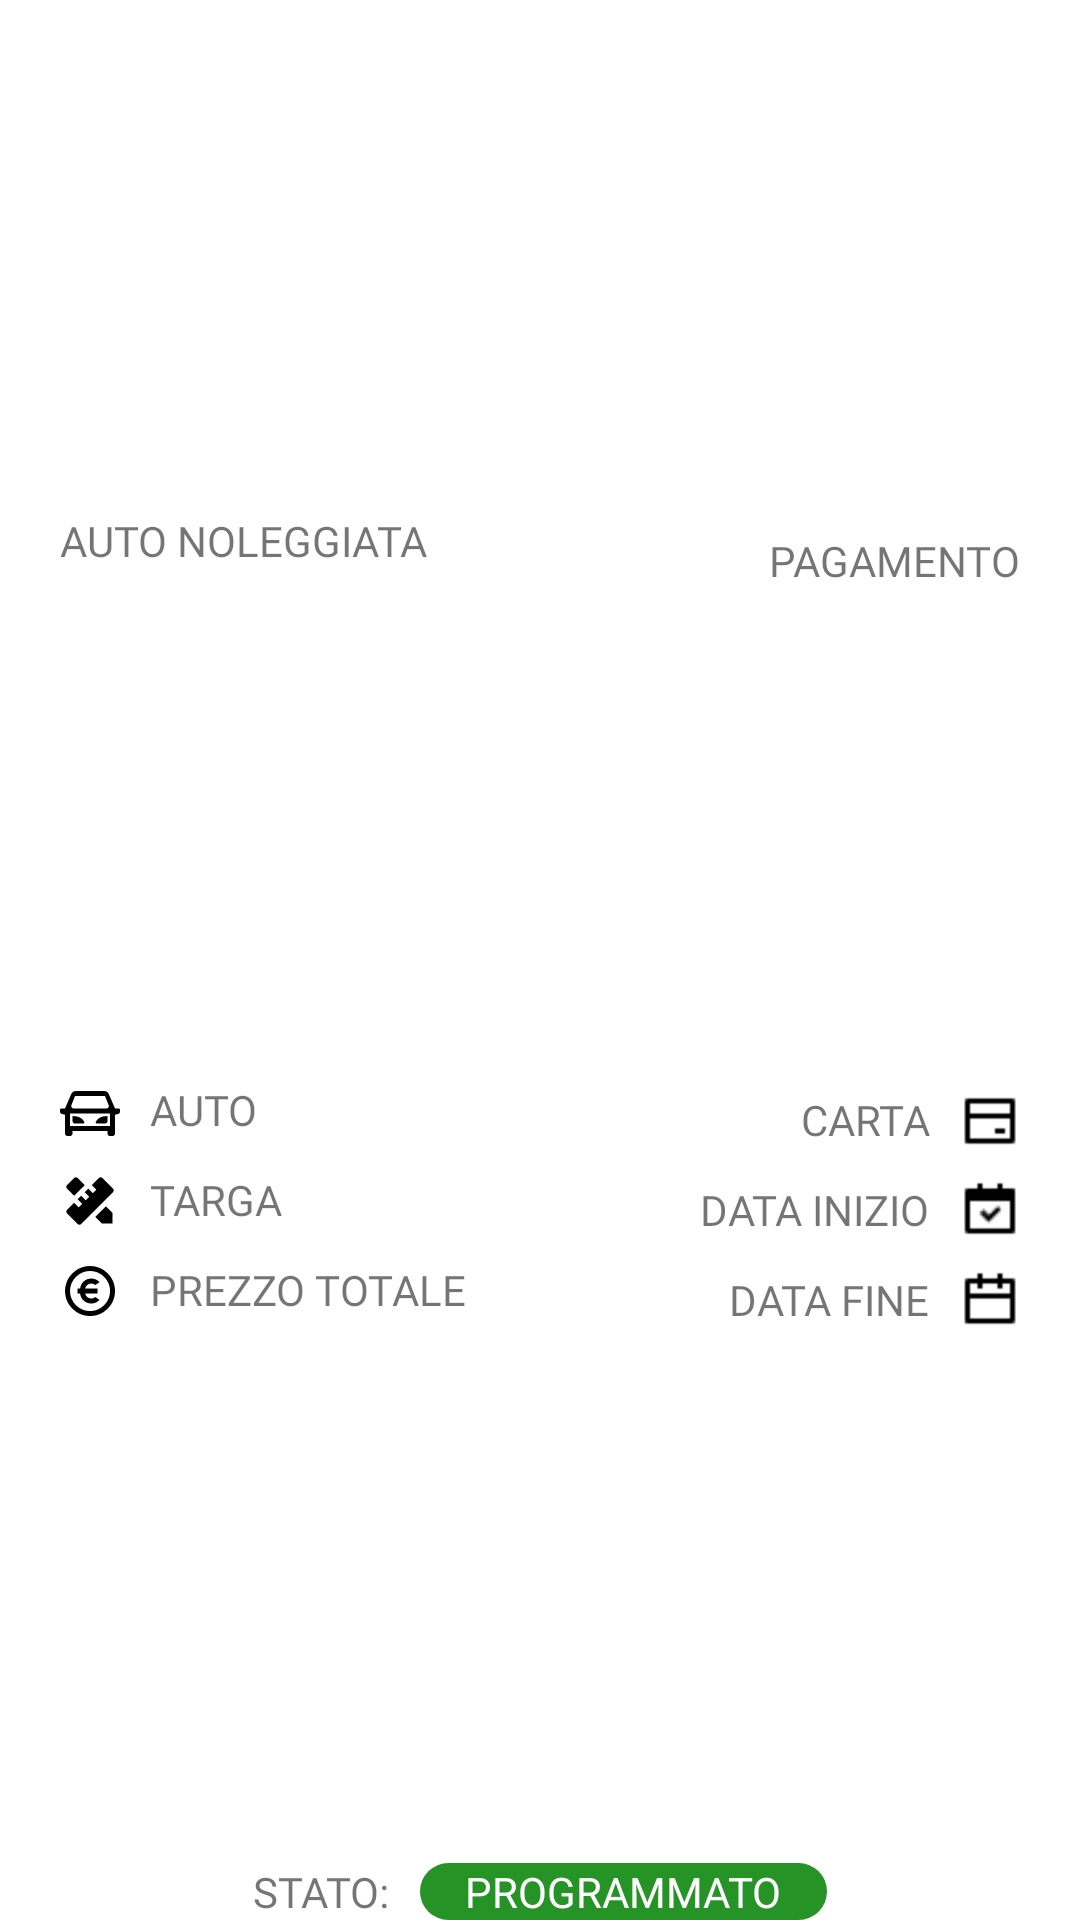

Point at icon controls on the screen. Image size 1080×1920, points as point (x, y).
booking: point (990, 1208)
car: point (90, 1113)
money: point (90, 1291)
scadenza: point (990, 1298)
